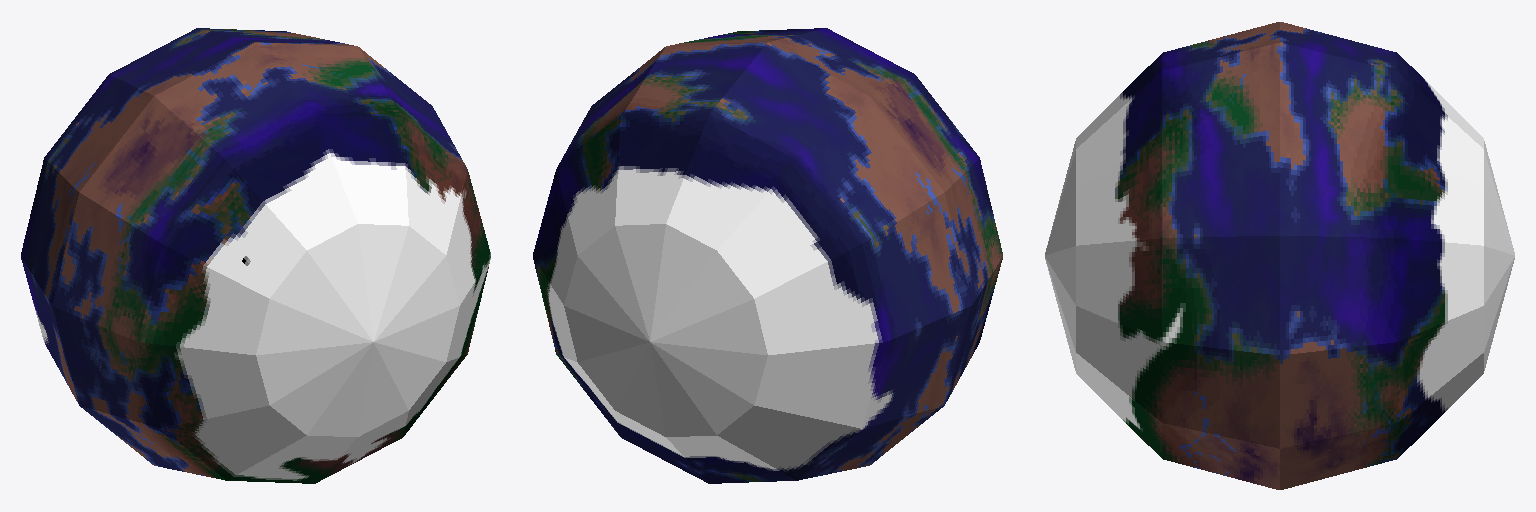
3 views of the same model, side by side, from view 1: azimuth 30°, elevation 25°; view 2: azimuth 150°, elevation 25°; view 3: azimuth 270°, elevation 25° (orthographic).
Size of the model in its own units: 20 by 20 by 20.
1 materials, 1 textured.